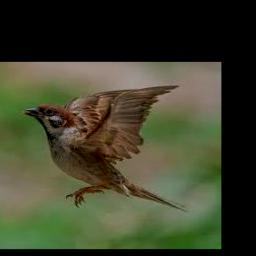Sparrow: (21, 85, 189, 211)
